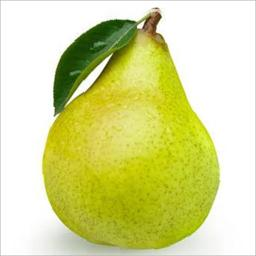Pear Fresh: (32, 5, 222, 256)
